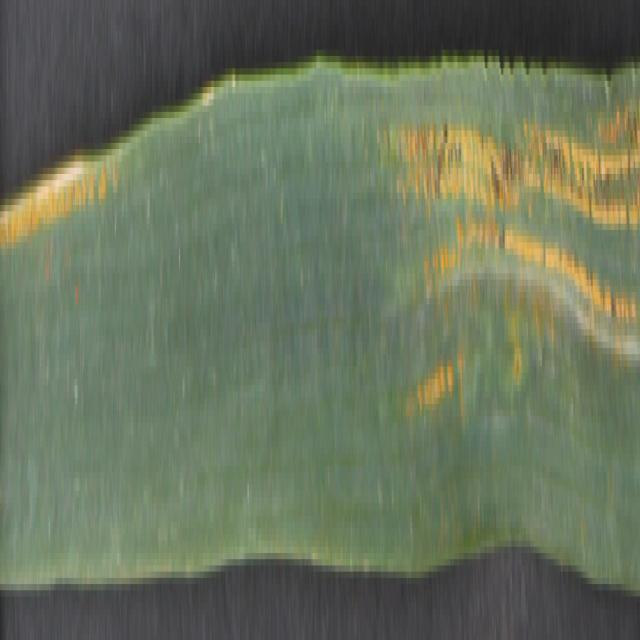leaf rust: (385, 62, 640, 497), (0, 131, 119, 292)
